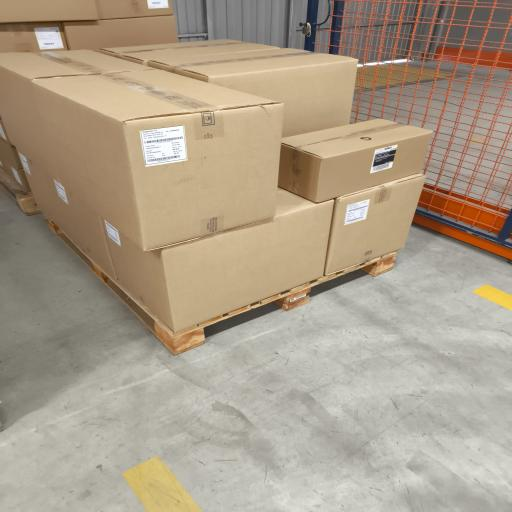pallet: (47, 220, 396, 354), (0, 180, 41, 215)
